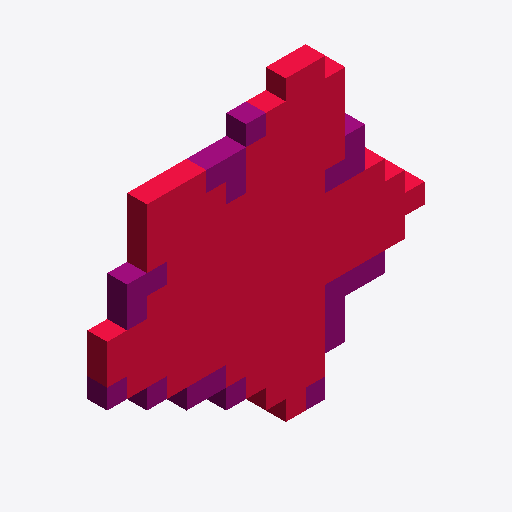
A Minecraft block model of 13 cuboids, rendered isometrically (azimuth 45°, elevation 35.3°) with the resource pack's own textures.
Visible parts, largest first — dark_candy_block_5_3, dark_candy_block_5_0, dark_candy_block_5_2, dark_candy_block_5_1, dark_candy_block_5_5, dark_candy_block_5_4, dark_candy_block_5_8, dark_candy_block_5_6, dark_candy_block_5_7, dark_candy_block_5_10, dark_candy_block_5_12, dark_candy_block_5_9 (+1 smaller).
Part boxes in pixels (x1,y1,x2,y2): dark_candy_block_5_3: (127, 136, 245, 409); dark_candy_block_5_0: (266, 44, 324, 421); dark_candy_block_5_2: (226, 90, 285, 398); dark_candy_block_5_1: (325, 56, 344, 352); dark_candy_block_5_5: (107, 262, 146, 398); dark_candy_block_5_4: (345, 113, 364, 295); dark_candy_block_5_8: (87, 319, 126, 409); dark_candy_block_5_6: (365, 147, 384, 283); dark_candy_block_5_7: (385, 159, 404, 249); dark_candy_block_5_10: (167, 354, 245, 410); dark_candy_block_5_12: (247, 376, 285, 409); dark_candy_block_5_9: (405, 171, 424, 214).
Size of the model in its own units: 16 by 15 by 1.